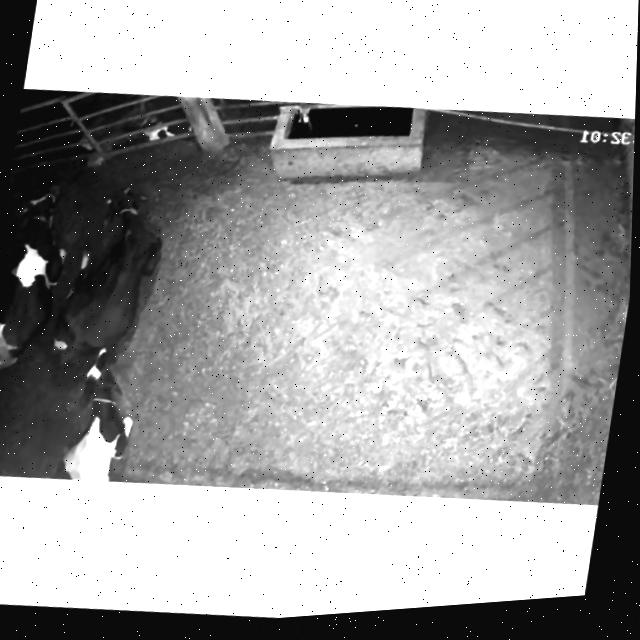lay: (42, 169, 180, 377), (41, 336, 166, 490), (0, 148, 82, 382)
